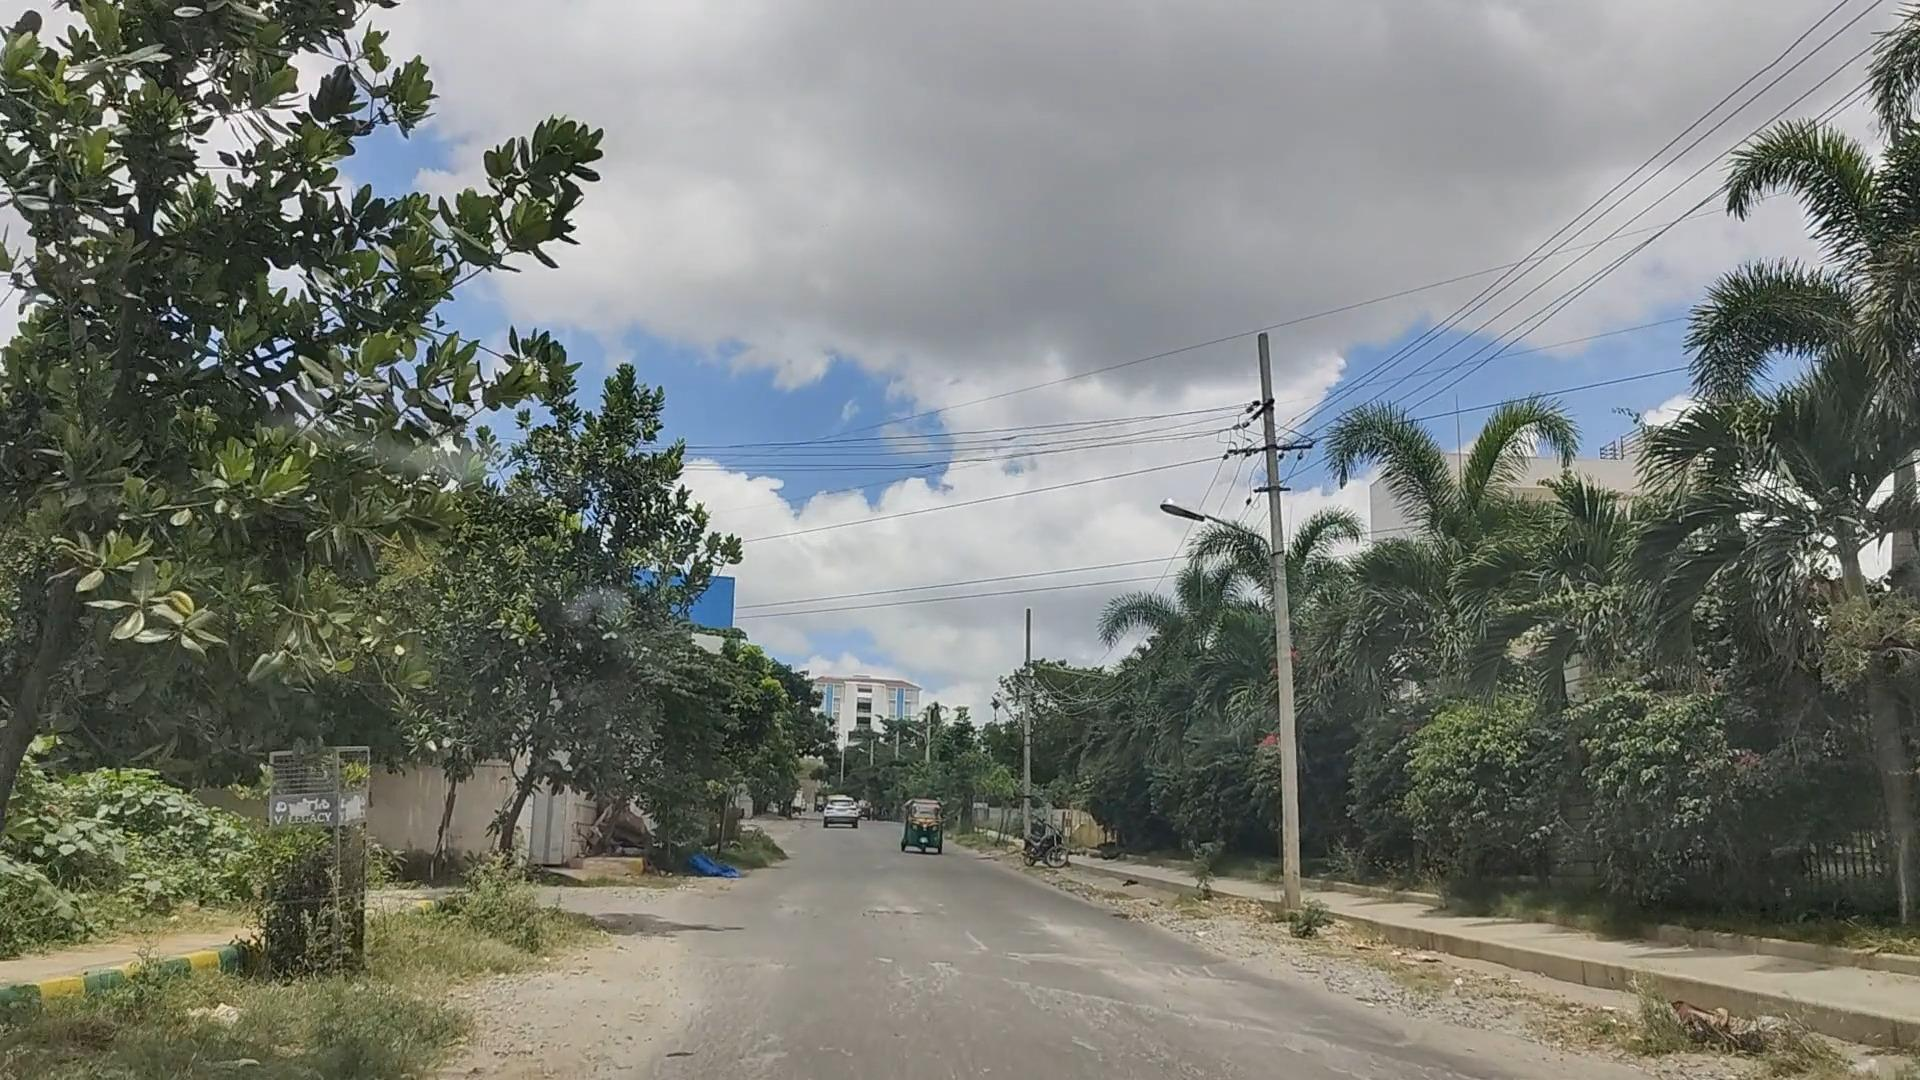RoadDamages: (957, 948, 1311, 1075)
